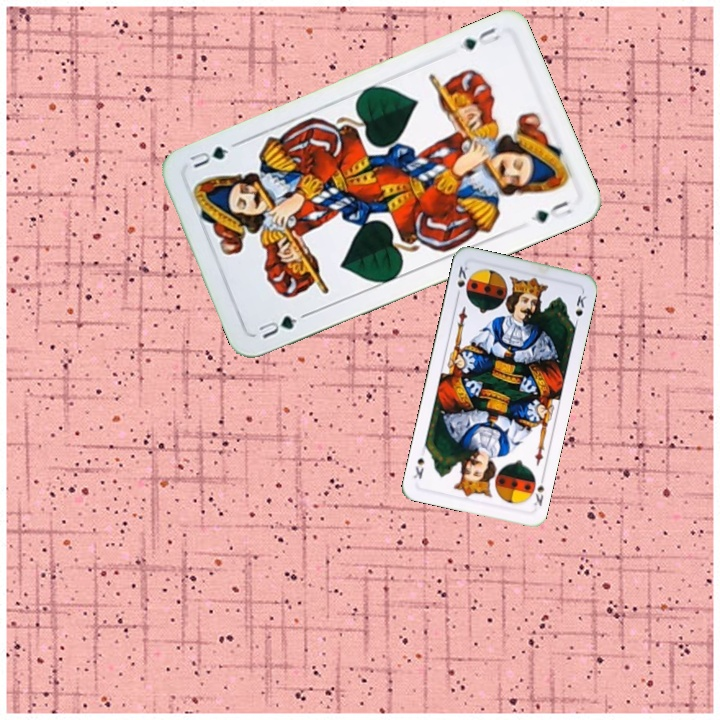GU: (455, 23, 503, 53), (254, 311, 300, 342)
SK: (452, 262, 471, 301), (530, 471, 547, 509)
